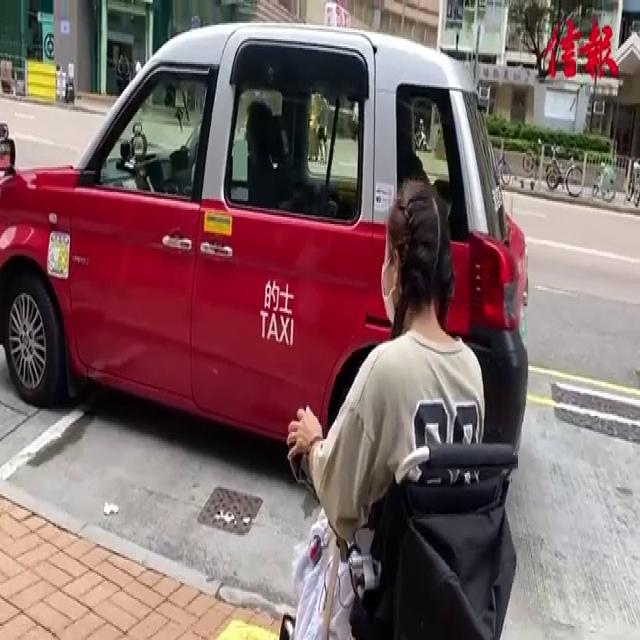wheelchairs: (266, 371, 527, 640)
